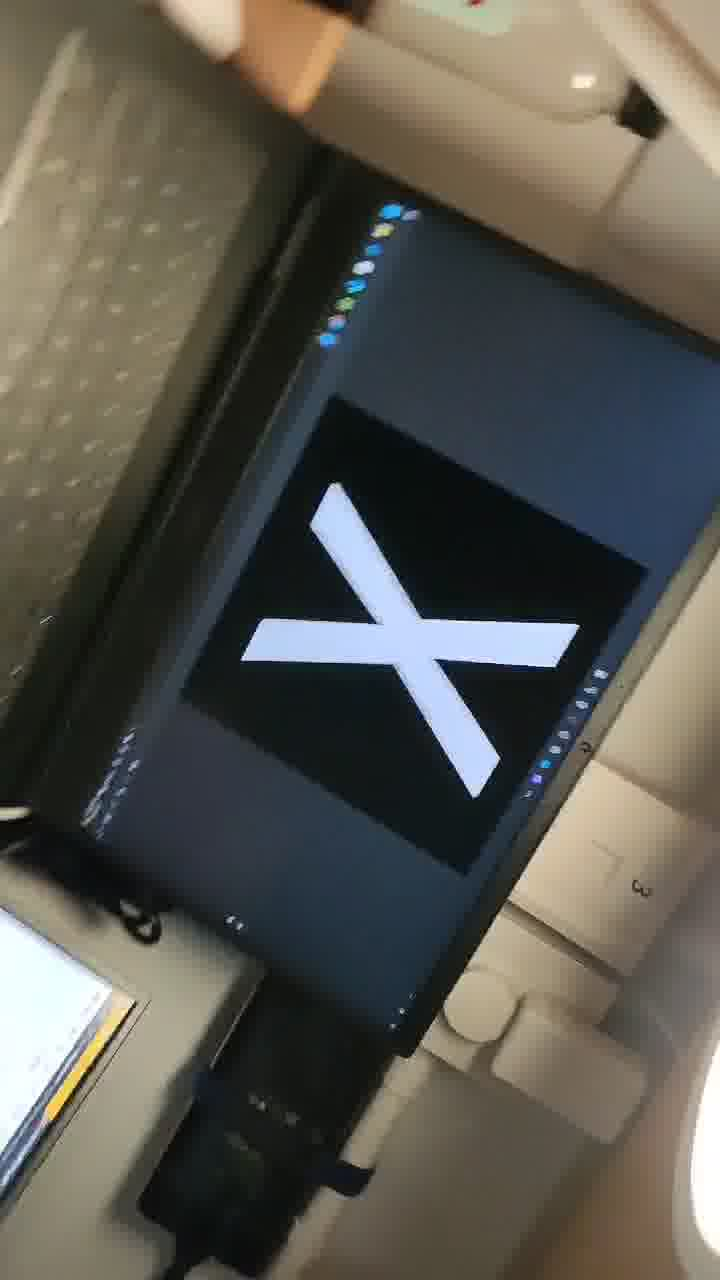X: (210, 459, 670, 783)
